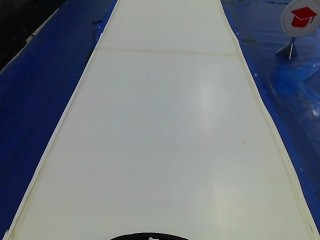school: (279, 0, 318, 38)
